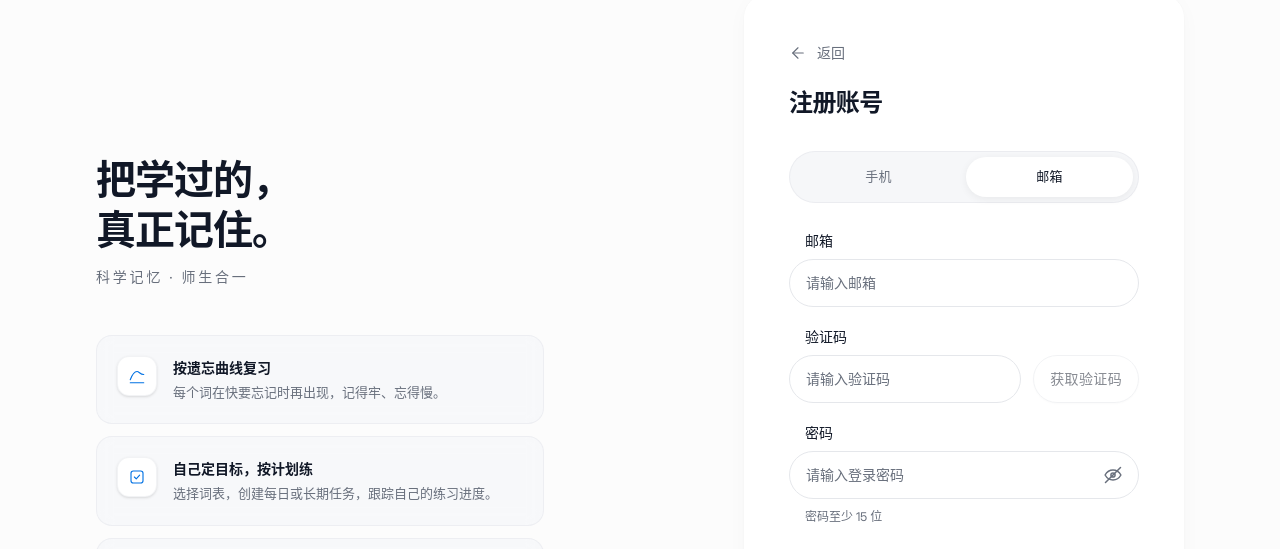
Test: RegisterForm — 手机号验证码注册 › 重复邮箱明确提示登录，不改报手机号
Type "user@example.com" into the field with placeholder "请输入邮箱" at (964, 283), box [789,259,1139,307]
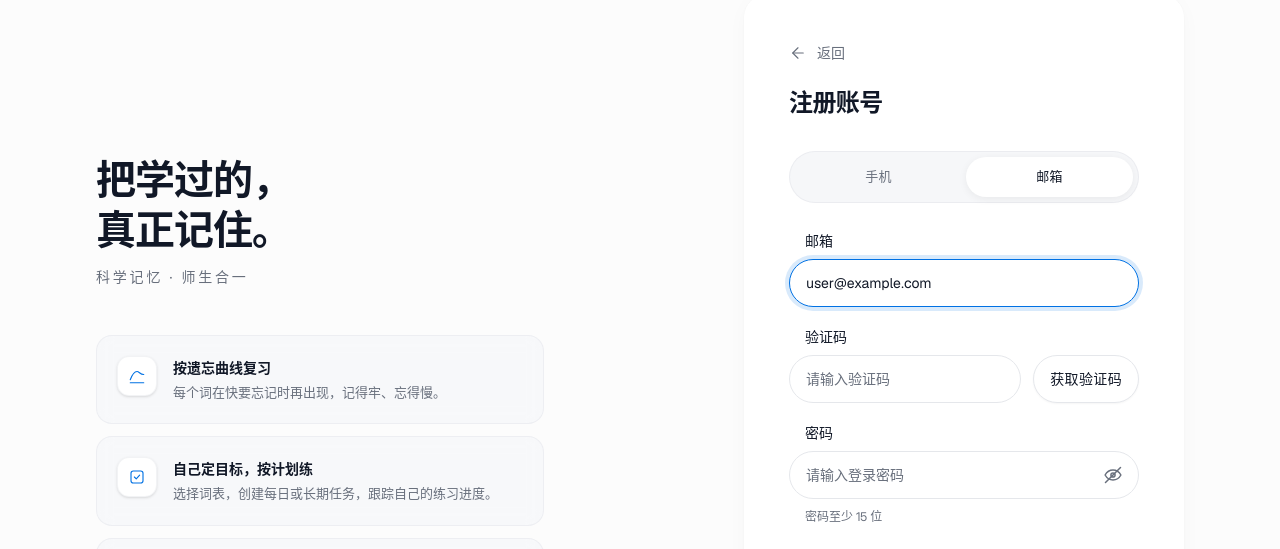
Type "123456" into the field with placeholder "请输入验证码" at (905, 379), box [789,355,1021,403]
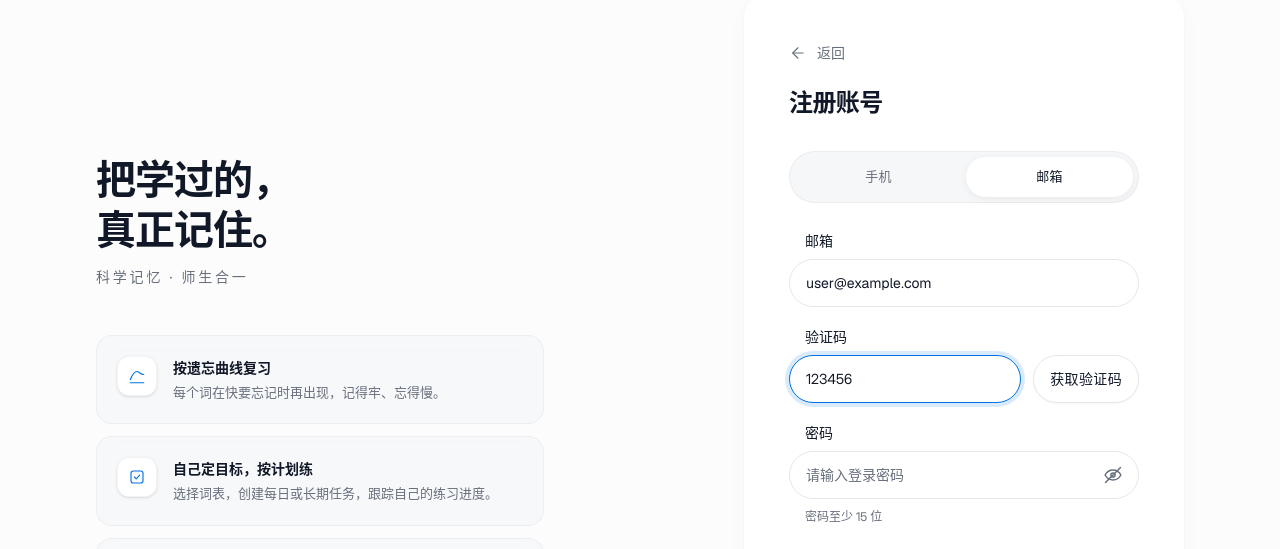
Type " Mixed!密码🙂 river cloud " into the password field with placeholder "请输入登录密码" at (964, 475), box [789,451,1139,499]
(page scrolled)
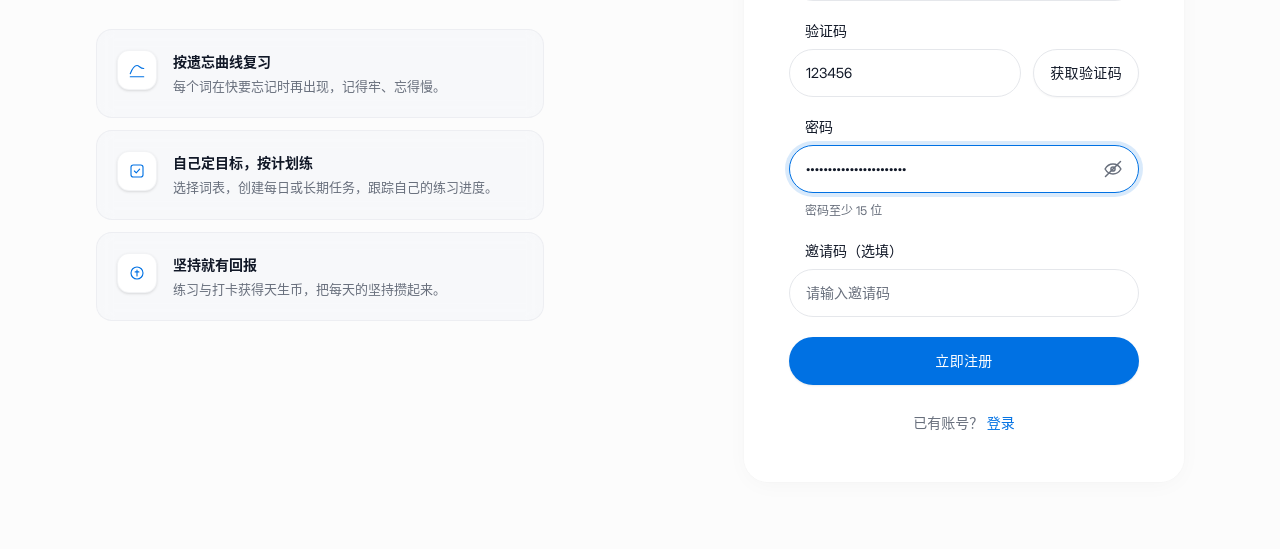
Click the button "立即注册" at (964, 361), box [789,337,1139,385]
(page scrolled)
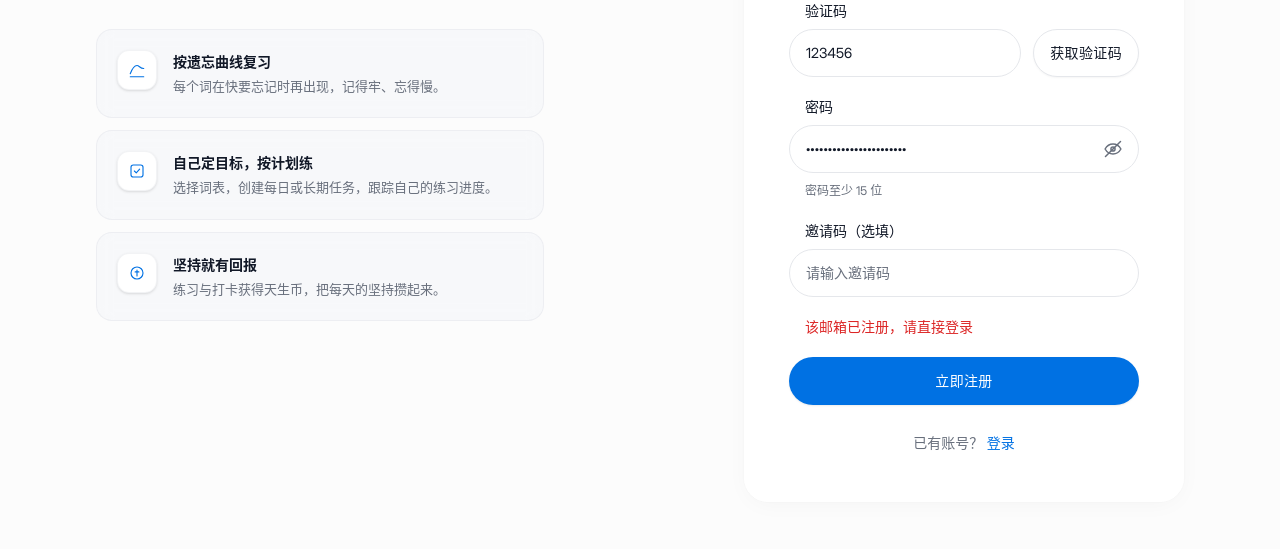
Result: the button "立即注册" is enabled at [789,357,1139,405]
Result: the text "该邮箱已注册，请直接登录" is shown at [805,318,973,336]
